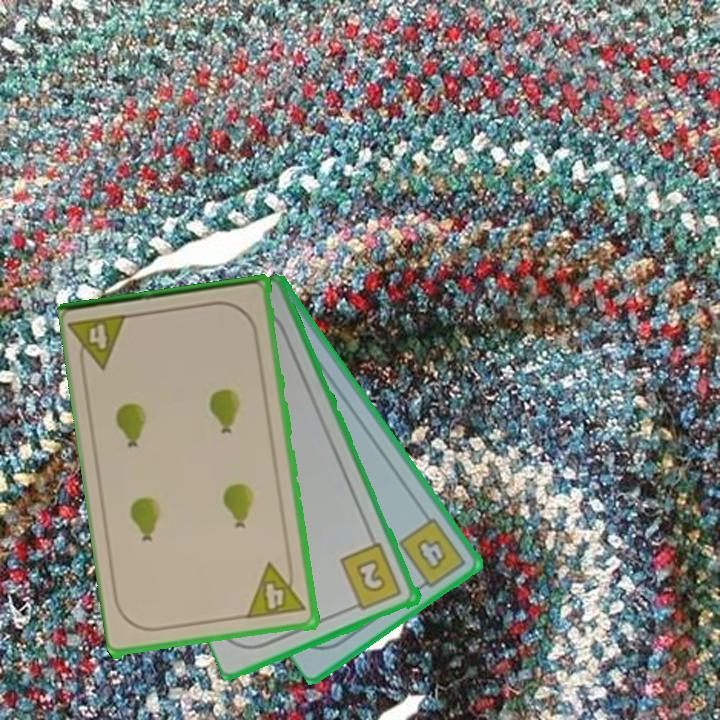2b: (337, 540, 405, 614)
4b: (395, 513, 469, 594)
4p: (68, 310, 134, 376), (244, 558, 309, 622)
